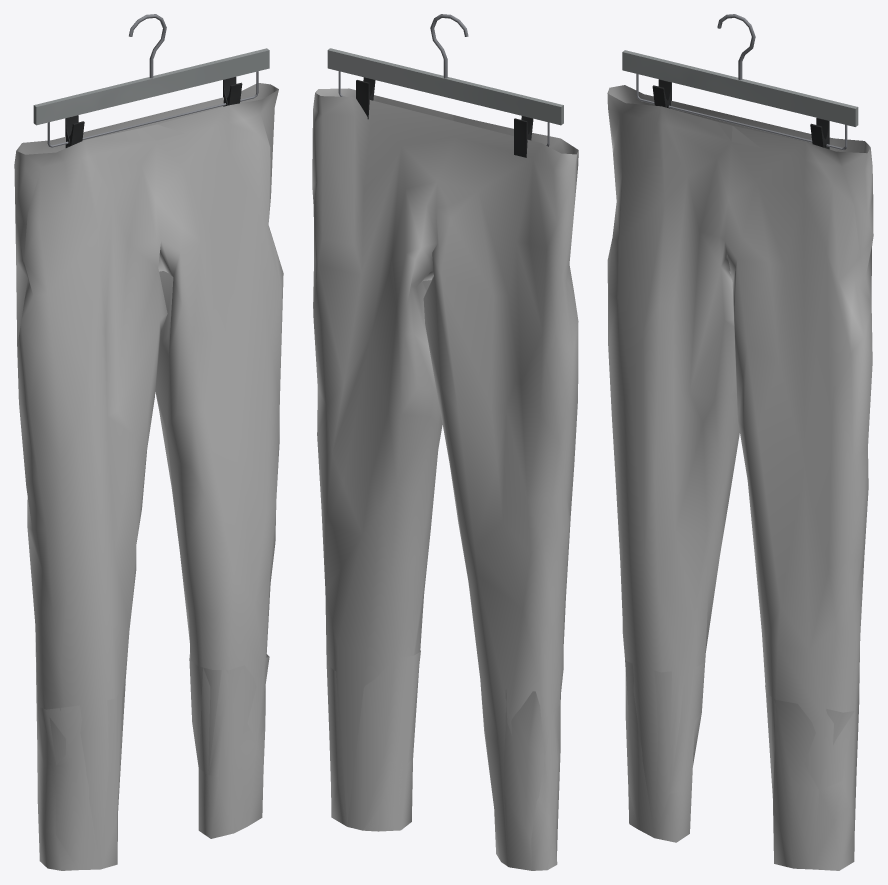
File: pants.FBX
3 views of the same model, side by side, from view 1: azimuth 30°, elevation 25°; view 2: azimuth 150°, elevation 25°; view 3: azimuth 330°, elevation 25° (orthographic).
Visible parts, largest first — view 1: pants_LOD0, _Hanger-4_LOD0; view 2: pants_LOD0, _Hanger-4_LOD0; view 3: pants_LOD0, _Hanger-4_LOD0.
Boxes of the visible parts, x1,y1,x2,y2 form: pants_LOD0: (14, 83, 283, 870); _Hanger-4_LOD0: (33, 14, 269, 147); pants_LOD0: (312, 88, 578, 870); _Hanger-4_LOD0: (327, 14, 563, 157); pants_LOD0: (607, 85, 873, 870); _Hanger-4_LOD0: (622, 14, 858, 150).
Size of what is drawn, in the model's own units: 35.74 by 10.8 by 108.
